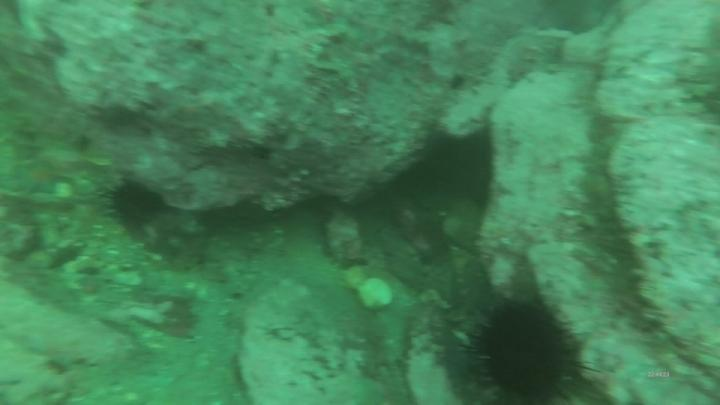echinus: (455, 287, 593, 405), (98, 175, 171, 234)
